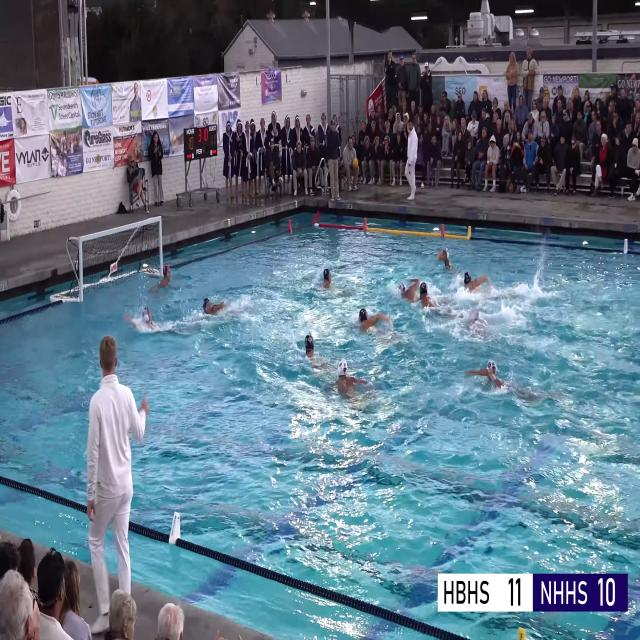ball: (353, 158, 358, 168), (437, 253, 442, 259)
